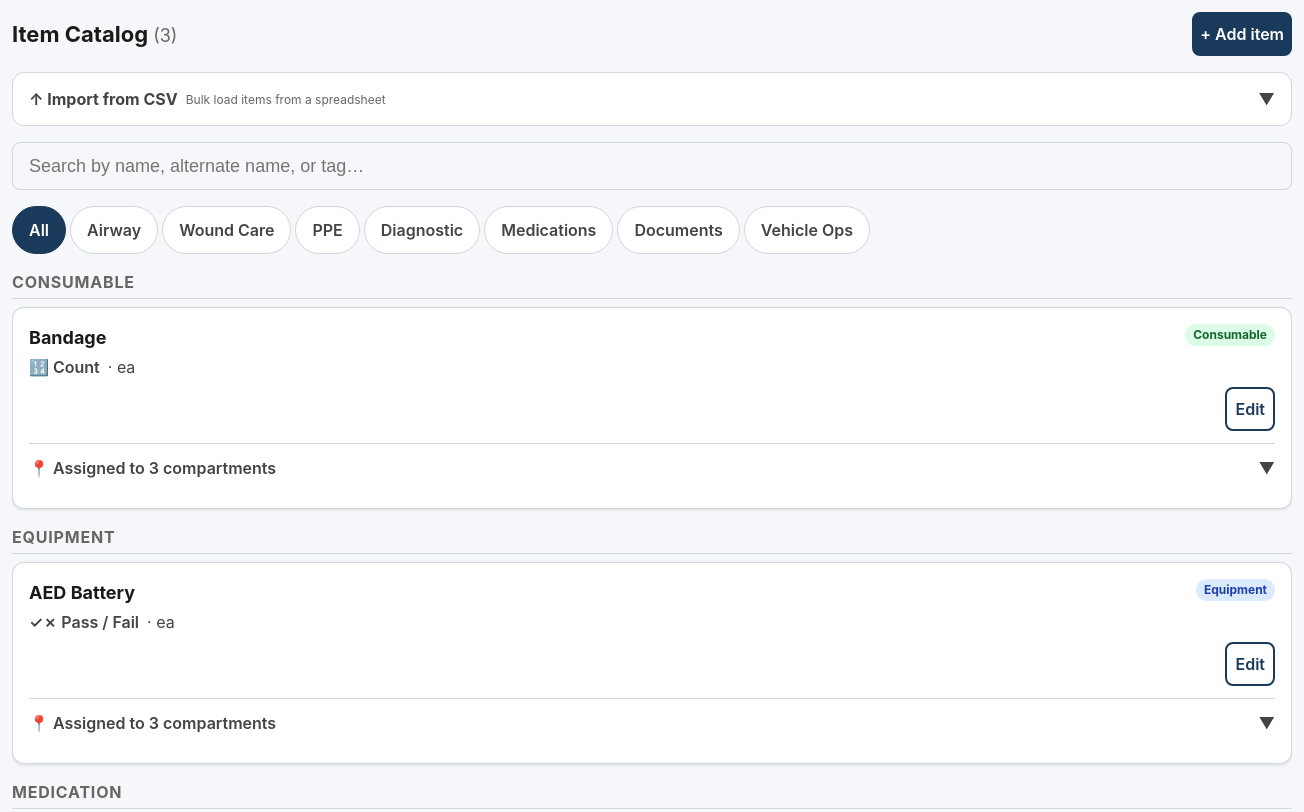
Test: ItemCatalog — search filters results › shows empty message when no items match
In the search field named "search items": [652, 166] box [12,142,1292,190], type "zzznomatch"
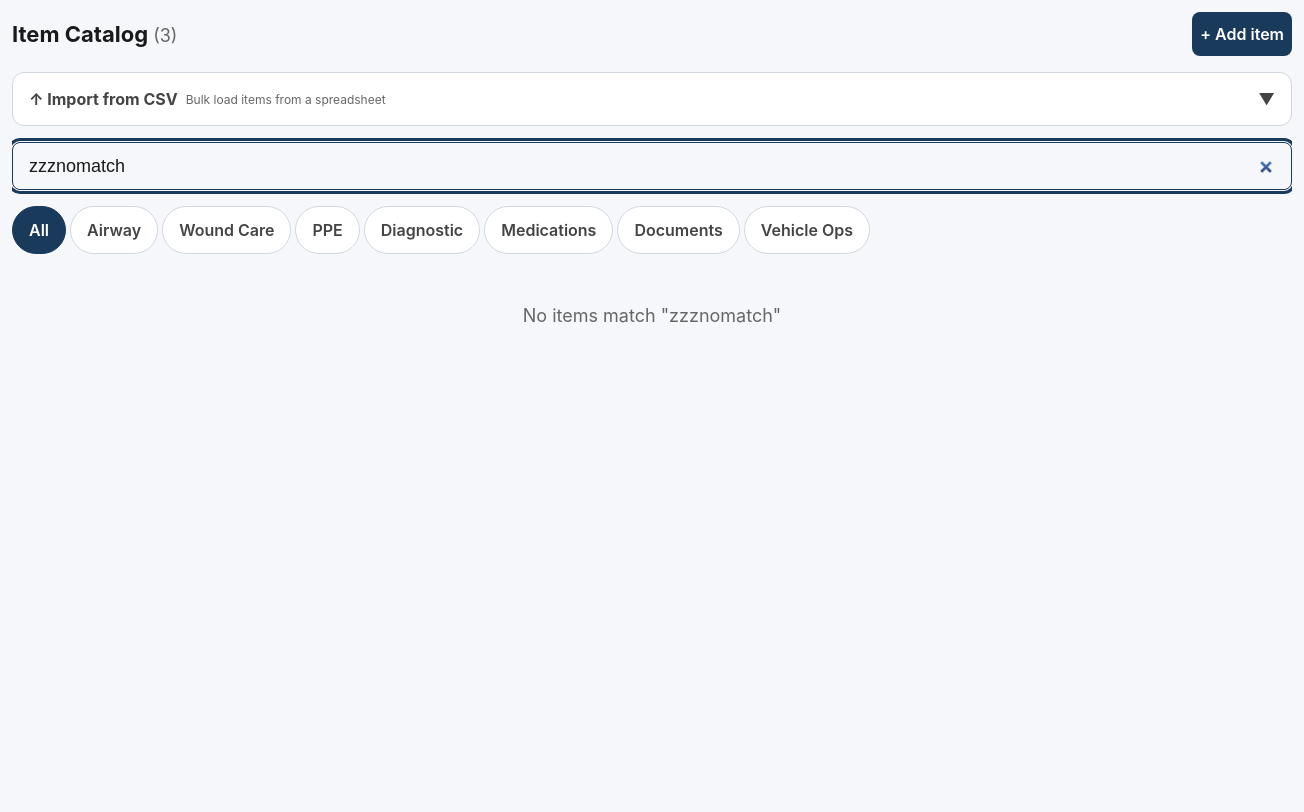
Now the text "No items match \"zzznomatch\"" is shown, box [523,305,781,326]
